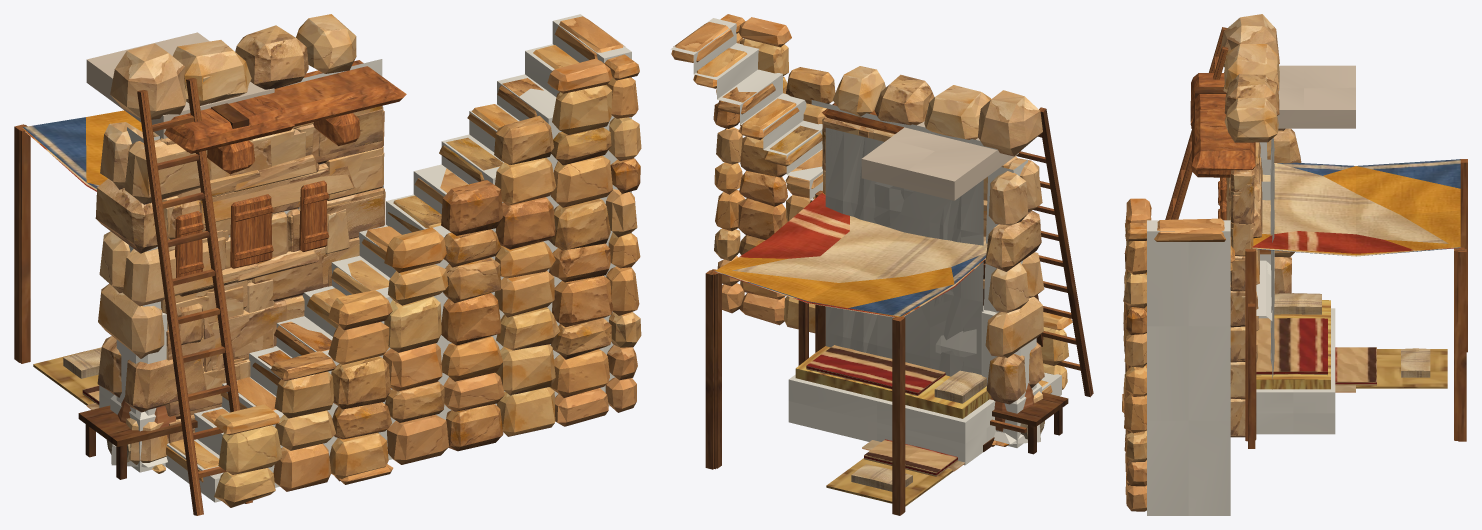
File: casas_kit.glb
The picture shows the model from 3 angles, left to right: view 1: azimuth 30°, elevation 25°; view 2: azimuth 150°, elevation 25°; view 3: azimuth 270°, elevation 25°; orthographic projection. The views are drawn at different scales.
Visible parts, largest first — view 1: Escada_Externa, Cunhal, Mureta_2, Escada_Mao, ParedePedra_2, ParedePedra_Janela_2, Parede_Janela_2, ParedePedra_Porta, Mureta_1, Pilar_Mureta, Parede_Porta, ParedePedra_Janela_1 (+11 smaller); view 2: Escada_Externa, Banco_Cama, Cunhal, Toldo, Mureta_2, Toldo_Ocre, Laje_1, Toldo_Vermelho, Cama_Esteira, Escada_Mao, Parede_2, Parede_Porta (+14 smaller); view 3: Escada_Externa, Banco_Cama, Toldo, Mureta_2, Toldo_Ocre, Laje_1, Toldo_Vermelho, Cama_Esteira, Toldo_Azul, ParedePedra_Janela_2, ParedePedra_Porta, ParedePedra_2 (+8 smaller).
Boxes of the visible parts, box(x1,y1,x2,y2) form: Escada_Externa: box(165, 14, 641, 507); Cunhal: box(95, 122, 213, 464); Mureta_2: box(173, 14, 406, 174); Escada_Mao: box(137, 78, 252, 515); ParedePedra_2: box(160, 110, 385, 420); ParedePedra_Janela_2: box(168, 105, 384, 372); Parede_Janela_2: box(168, 154, 329, 443); ParedePedra_Porta: box(162, 107, 391, 482); Mureta_1: box(164, 76, 294, 172); Pilar_Mureta: box(110, 43, 186, 119); Parede_Porta: box(172, 174, 393, 484); ParedePedra_Janela_1: box(153, 135, 273, 416); Escada_Externa: box(670, 14, 1072, 396); Banco_Cama: box(788, 345, 995, 465); Cunhal: box(983, 158, 1044, 423); Toldo: box(712, 191, 987, 468); Mureta_2: box(811, 66, 996, 149); Toldo_Ocre: box(711, 191, 983, 515); Laje_1: box(861, 122, 1008, 200); Toldo_Vermelho: box(705, 192, 985, 511); Cama_Esteira: box(826, 439, 957, 506); Escada_Mao: box(1016, 107, 1093, 397); Parede_2: box(825, 127, 959, 327); Parede_Porta: box(825, 128, 862, 348); Escada_Externa: box(1123, 198, 1234, 515); Banco_Cama: box(1256, 293, 1335, 434); Toldo: box(1246, 159, 1466, 441); Mureta_2: box(1191, 44, 1279, 177); Toldo_Ocre: box(1248, 159, 1467, 440); Laje_1: box(1277, 65, 1355, 128); Toldo_Vermelho: box(1248, 161, 1466, 441); Cama_Esteira: box(1335, 347, 1447, 388); Toldo_Azul: box(1245, 159, 1467, 440); ParedePedra_Janela_2: box(1218, 143, 1274, 437); ParedePedra_Porta: box(1122, 139, 1274, 412); ParedePedra_2: box(1230, 170, 1274, 437).
Size of the model in its own units: 4.25 by 3.5 by 3.31.
Materials: 3 (1 with a texture image).
